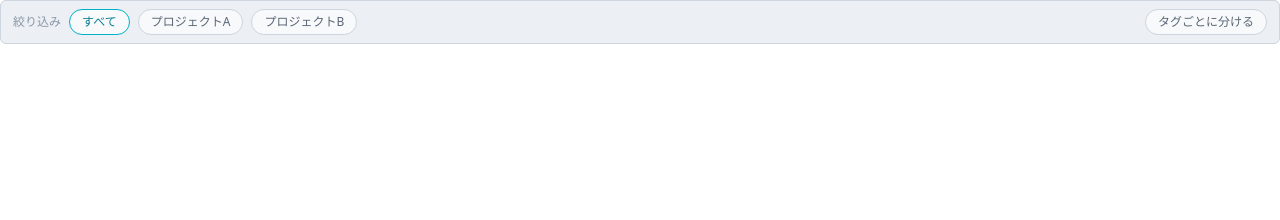
NoteList › タグを選ぶと、そのタグを持たないページが消える
Click the button "プロジェクトA" at x=191, y=22, box x1=138 y1=9 x2=243 y2=35
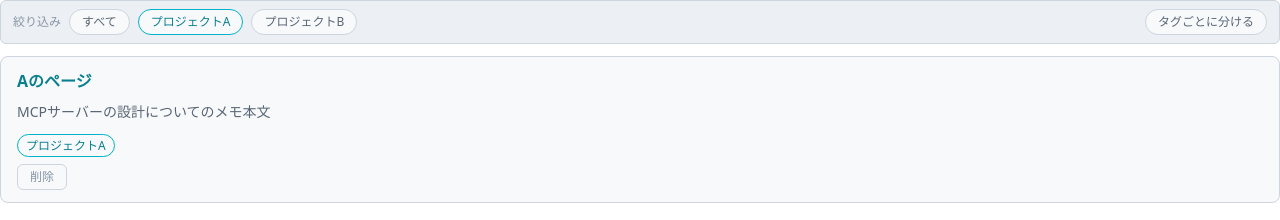
expect the button "Aのページ" is shown: met, box x1=17 y1=69 x2=92 y2=93
